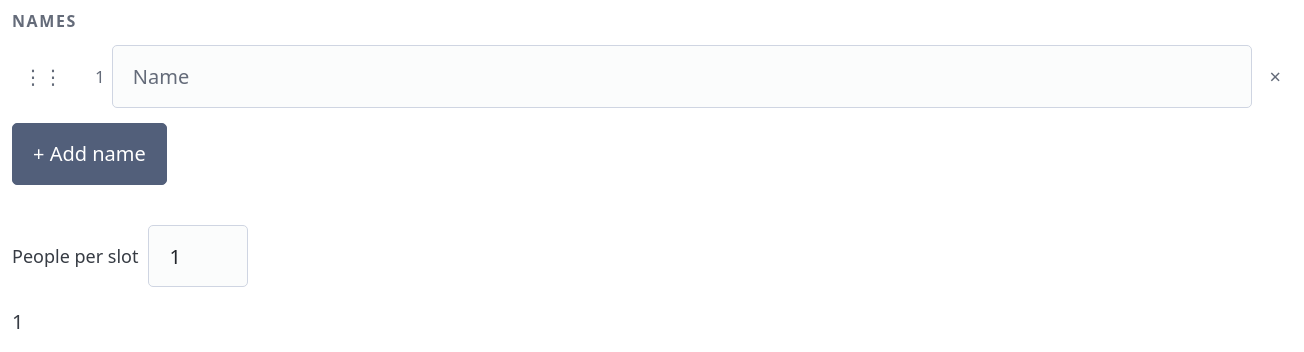
NameList › leaves a single-line paste to the input itself
The width and height of the screenshot is (1304, 352).
Step 1. Click the field named "Name 1" → coordinates (682, 77), box [112,45,1252,108]
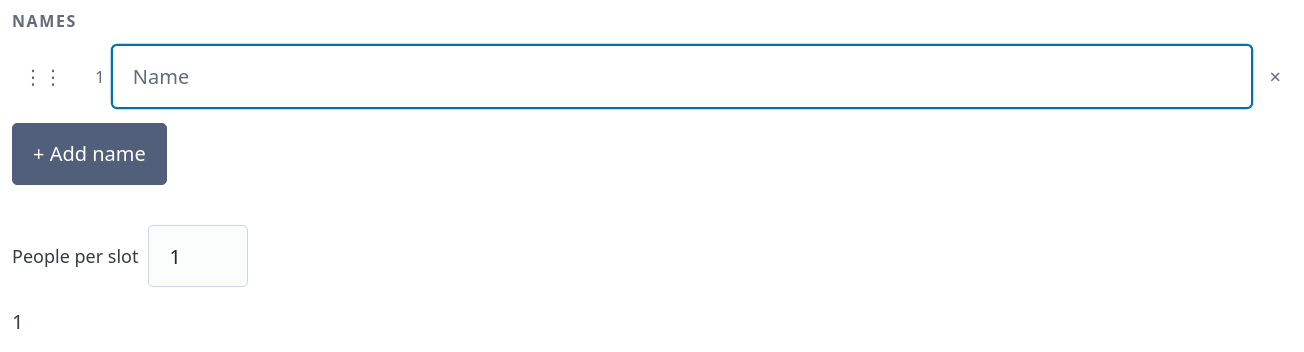
Step 2. Type keys "Smith, John"
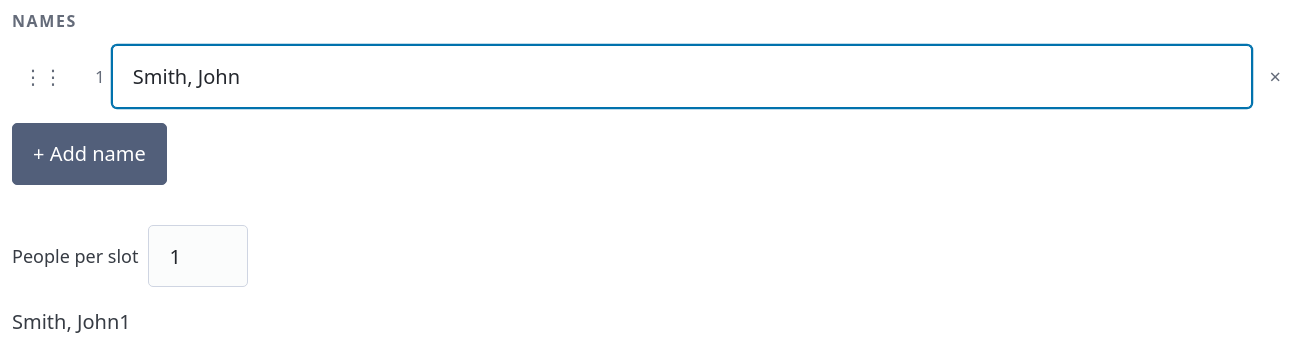
Now the text with test id "names" reads "Smith, John", box [12,308,119,335]
